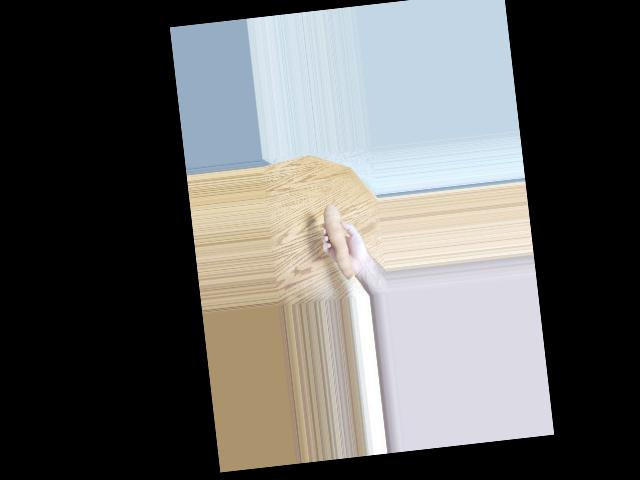sweet_potato: (317, 202, 355, 278)
